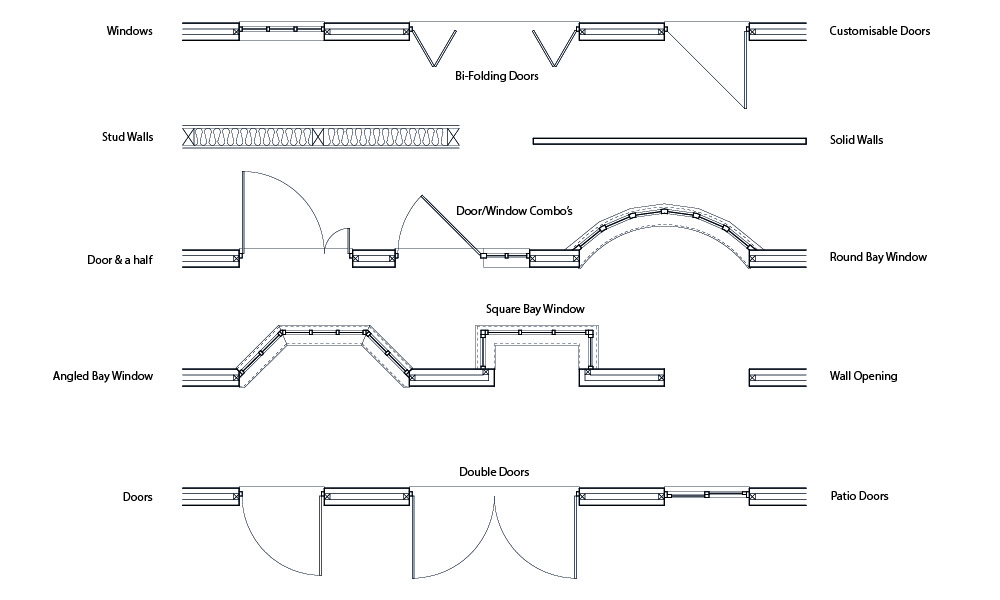door: (407, 477, 582, 592), (239, 477, 327, 592), (661, 472, 754, 525)
wall: (528, 124, 816, 159)
window: (174, 6, 412, 66)
